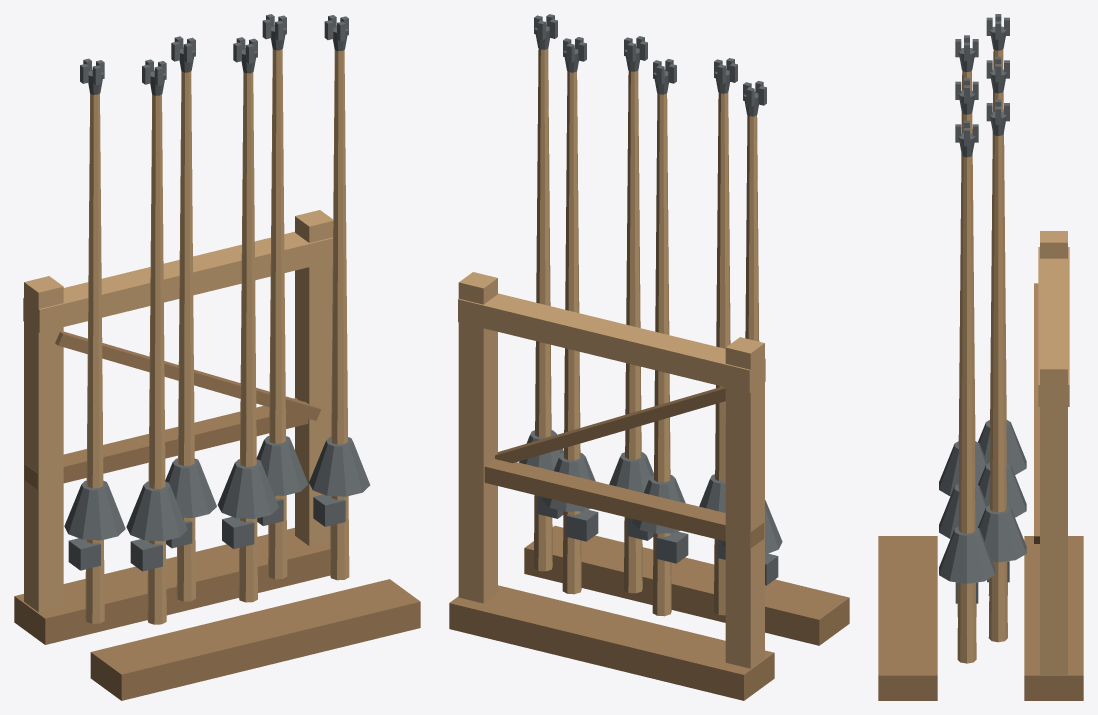
Rendered from lance-rack.glb.
3 renders of one model, left to right at view 1: azimuth 30°, elevation 25°; view 2: azimuth 150°, elevation 25°; view 3: azimuth 270°, elevation 25°, orthographic. The views are drawn at different scales.
Visible parts, largest first — view 1: lance-rack; view 2: lance-rack; view 3: lance-rack.
Boxes of the visible parts, bbox=[...] form: lance-rack: bbox=[14, 14, 420, 700]; lance-rack: bbox=[449, 14, 849, 700]; lance-rack: bbox=[878, 14, 1083, 700].
Size of the model in its own units: 1.9 by 3.54 by 1.18.
